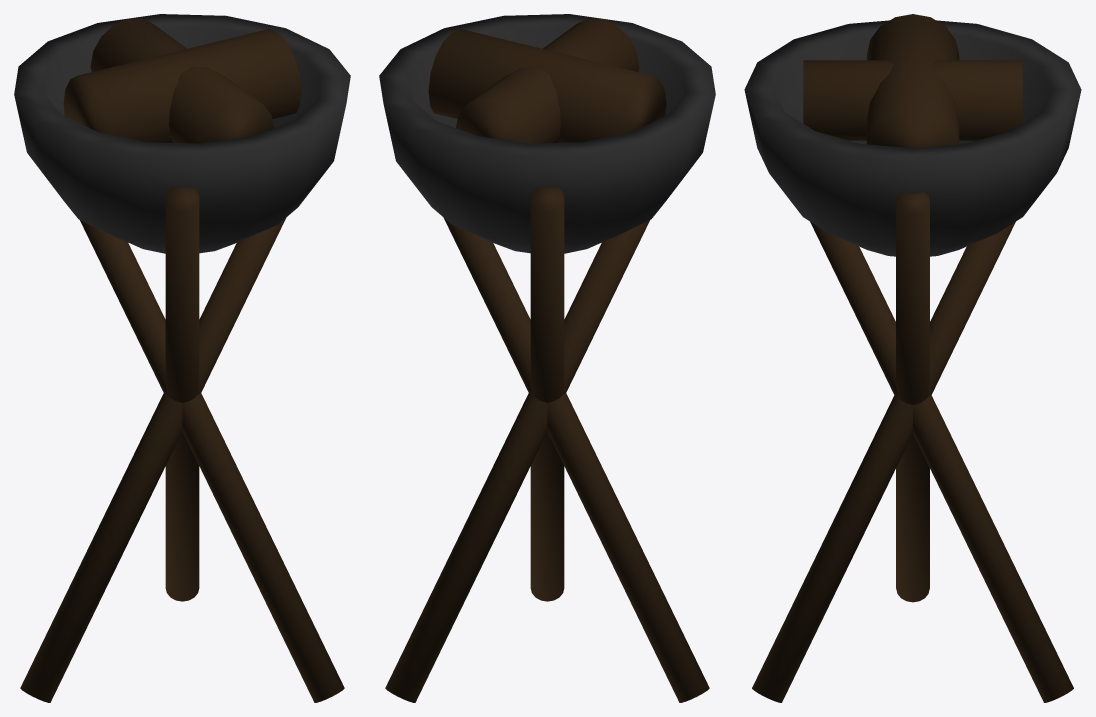
The model's file is brazier.fbx.
3 views of the same model, side by side, from view 1: azimuth 30°, elevation 25°; view 2: azimuth 150°, elevation 25°; view 3: azimuth 270°, elevation 25° (orthographic).
Parts seen in each view (by area): view 1: bowl, leg 2, leg 1, wood 2, leg 3, wood 1; view 2: bowl, leg 3, leg 1, wood 2, leg 2, wood 1; view 3: bowl, leg 2, leg 3, leg 1, wood 1, wood 2.
Part boxes in pixels (x1,y1,x2,y2): bowl: (14,14,350,253); leg 2: (80,220,344,702); leg 1: (20,217,286,702); wood 2: (63,29,301,142); leg 3: (165,187,199,601); wood 1: (90,18,273,143); bowl: (379,14,715,253); leg 3: (385,220,649,702); leg 1: (443,217,709,702); wood 2: (428,29,666,142); leg 2: (530,187,564,601); wood 1: (456,18,639,143); bowl: (744,20,1081,256); leg 2: (752,221,1015,702); leg 3: (810,221,1073,702); leg 1: (896,192,929,602); wood 1: (803,60,1022,140); wood 2: (866,14,959,148).
Size of the model in its own units: 217 by 397 by 200.
